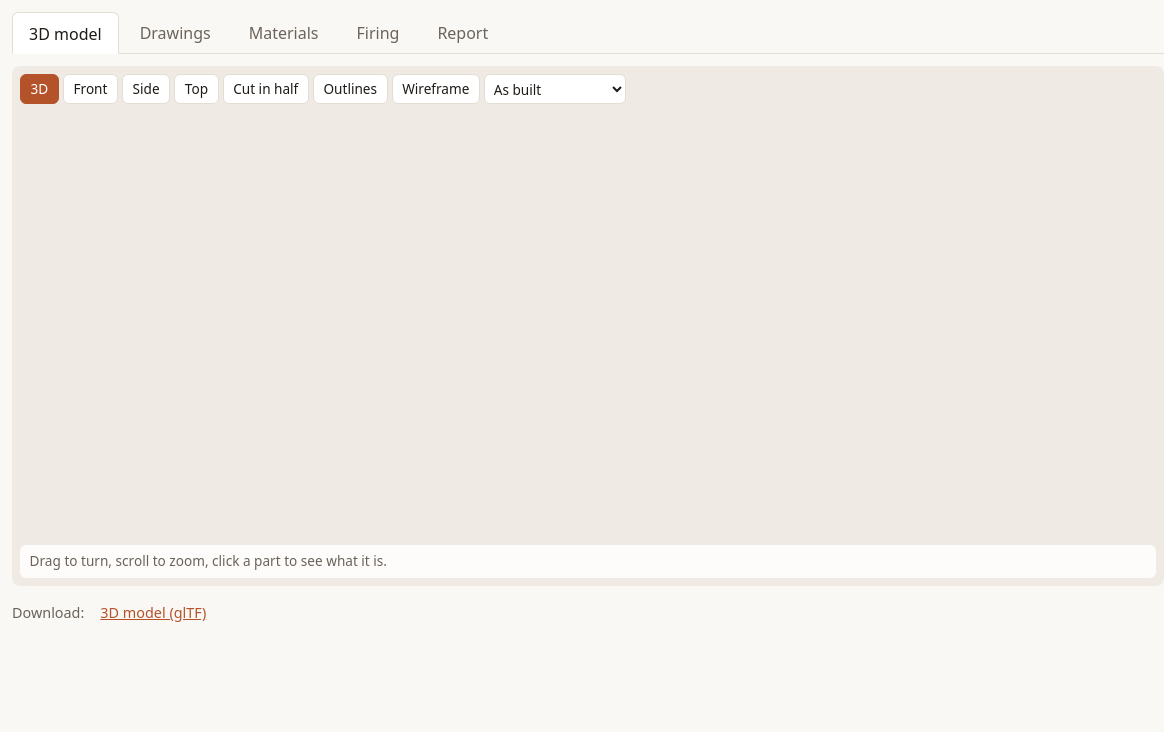
Test: BuildPanel › says a finished build without a report has none, instead of loading it forever
Click the tab "Materials" at point(284, 32), box [232,12,336,53]
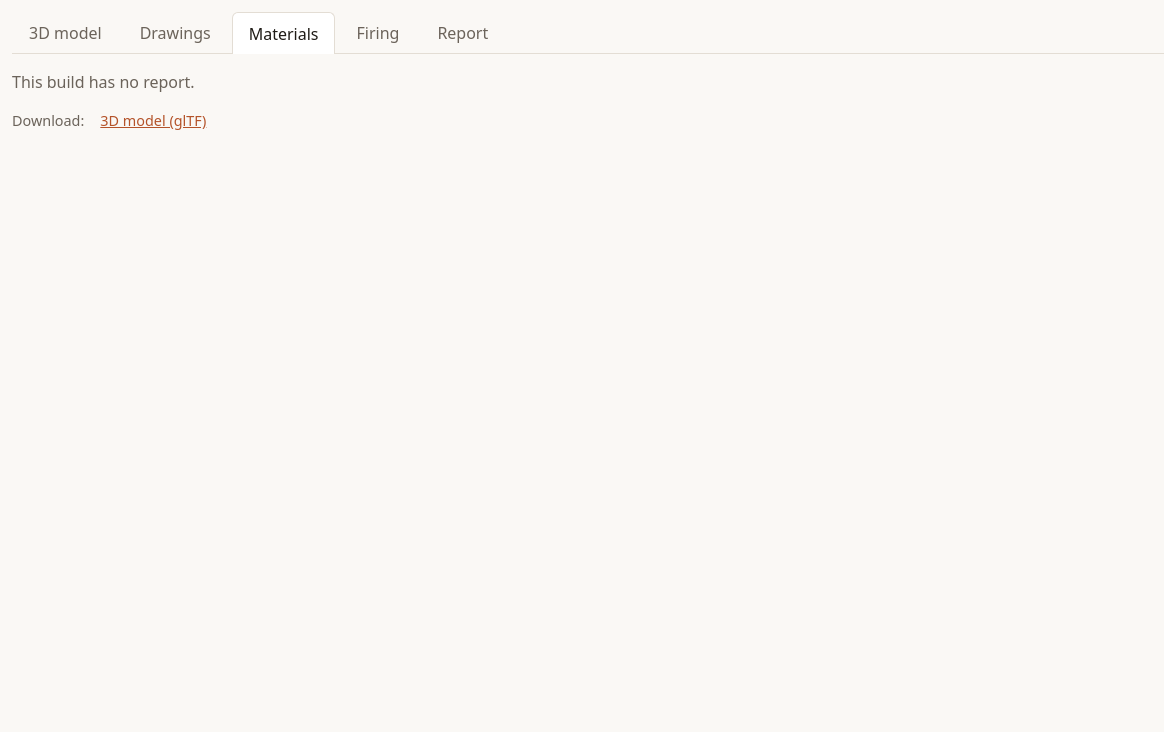
Check: the panel named "Materials" reads "This build has no report.", box [12,71,195,93]
